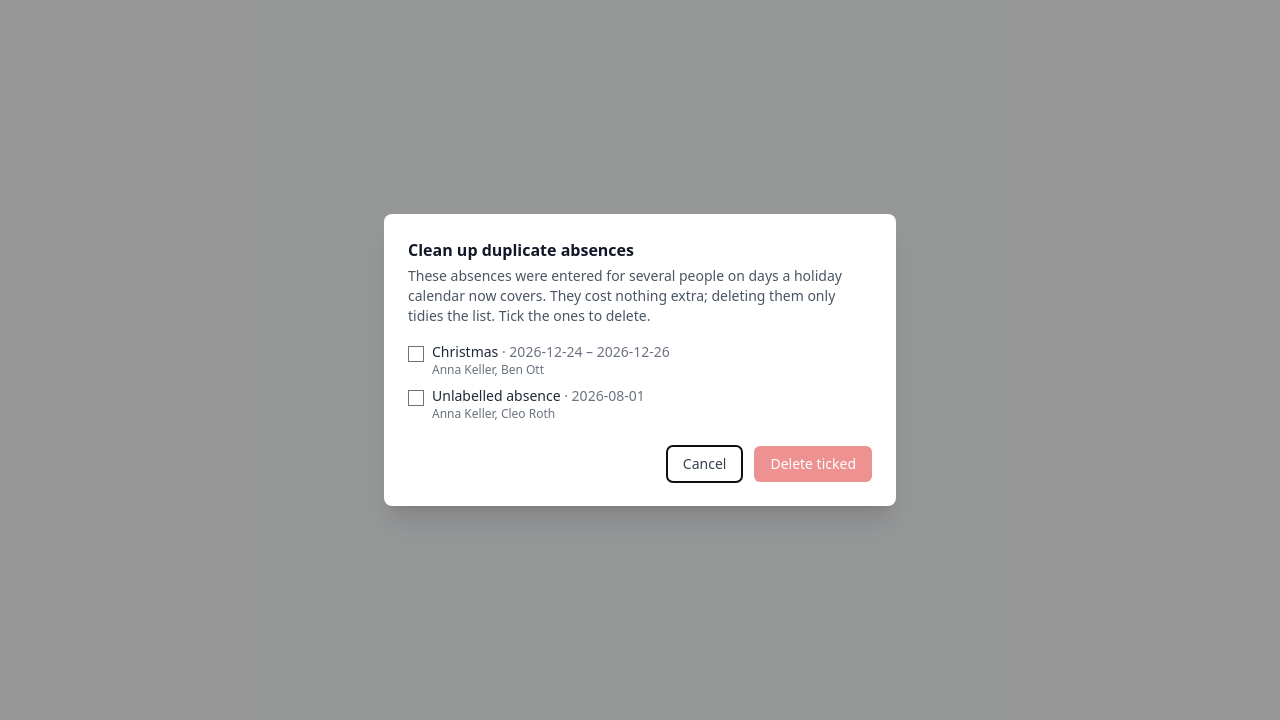
Test: HolidayCleanupDialog › unticks a group on a second click, and disables the delete again
Click the checkbox labelled "Christmas · 2026-12-24 – 2026-12-26 Anna Keller, Ben Ott": (416,354) [408,346,424,362]
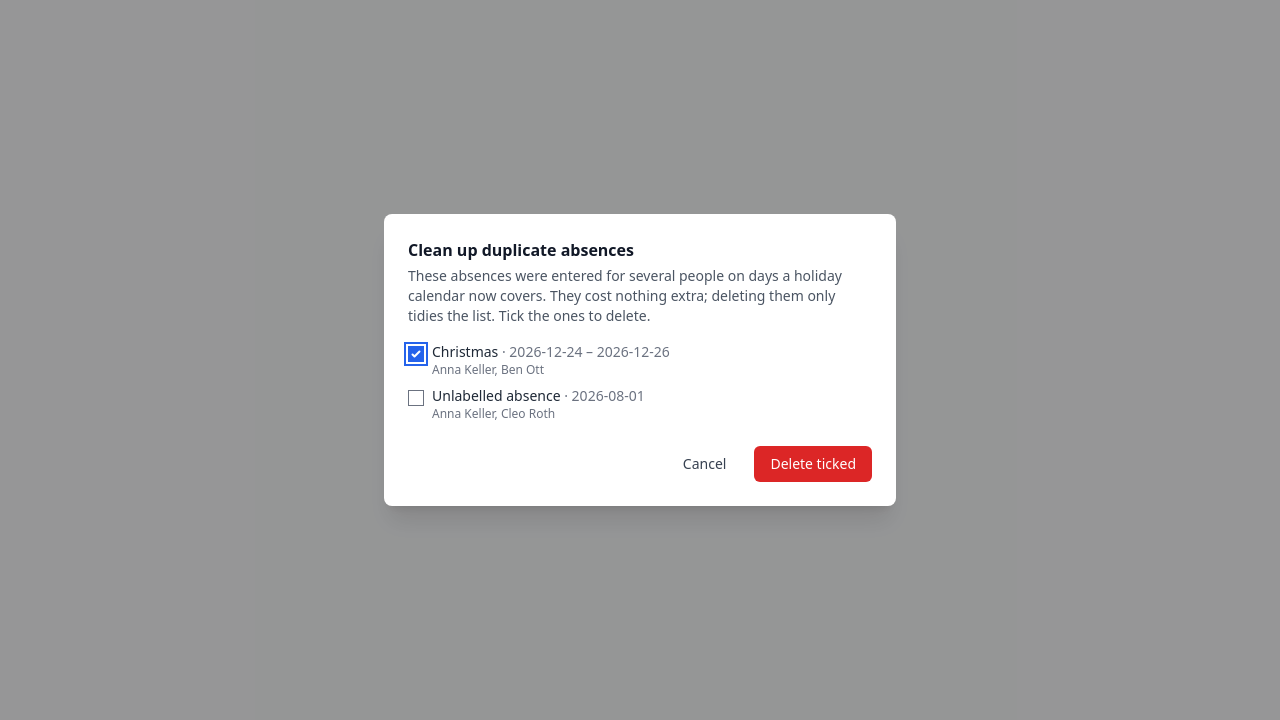
Expected: the checkbox labelled "Christmas · 2026-12-24 – 2026-12-26 Anna Keller, Ben Ott" is checked
Expected: the button "Delete ticked" is enabled, [754,446,872,482]
Click the checkbox labelled "Christmas · 2026-12-24 – 2026-12-26 Anna Keller, Ben Ott": (416,354) [408,346,424,362]
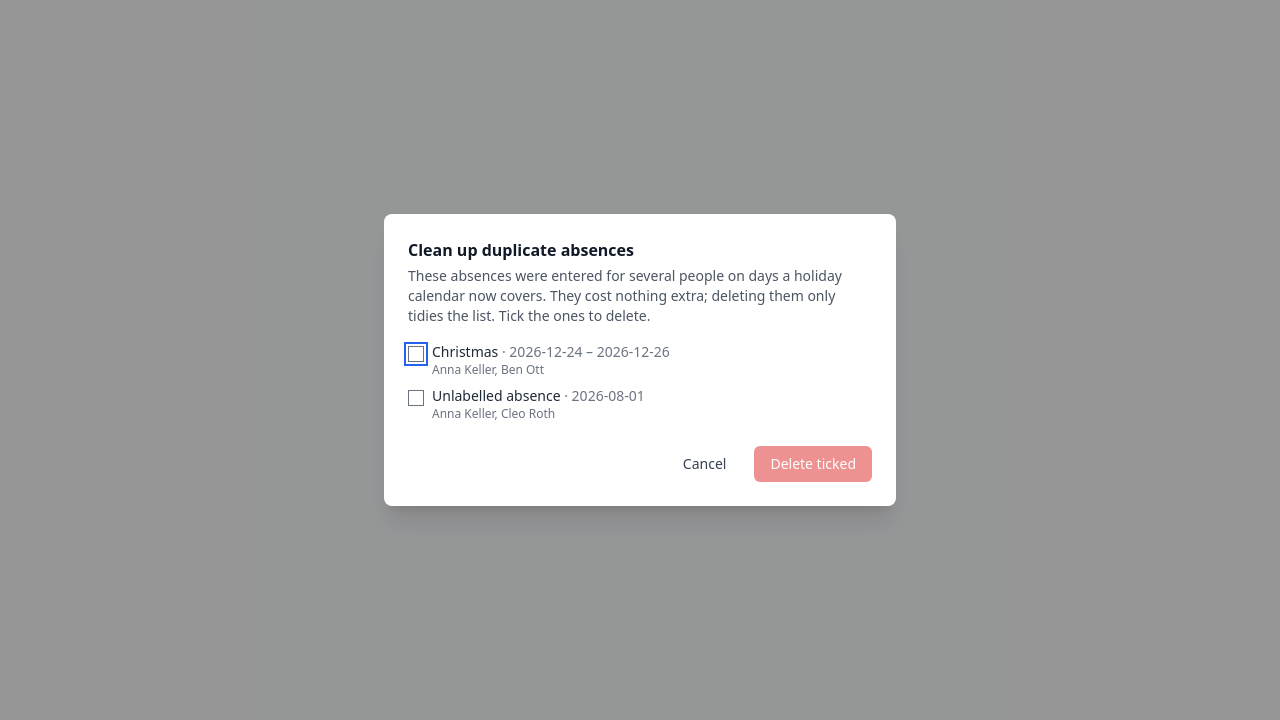
Expected: the checkbox labelled "Christmas · 2026-12-24 – 2026-12-26 Anna Keller, Ben Ott" is not checked, [408,346,424,362]
Expected: the button "Delete ticked" is disabled, [754,446,872,482]
